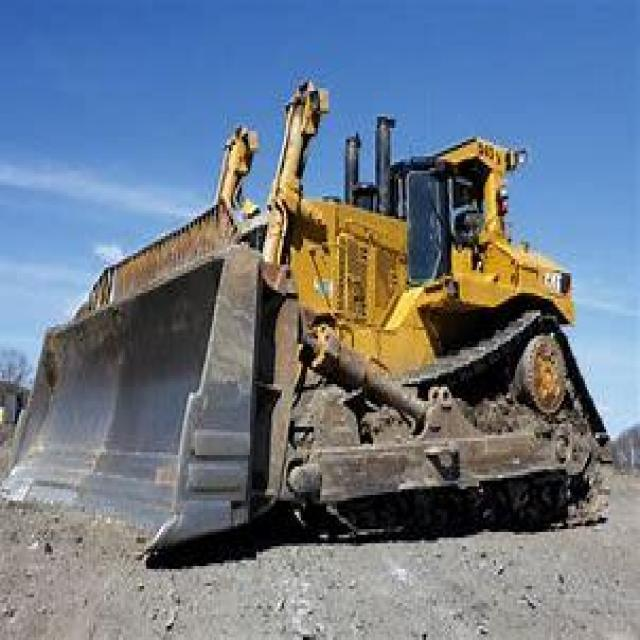Bulldozer: (19, 71, 598, 580)
